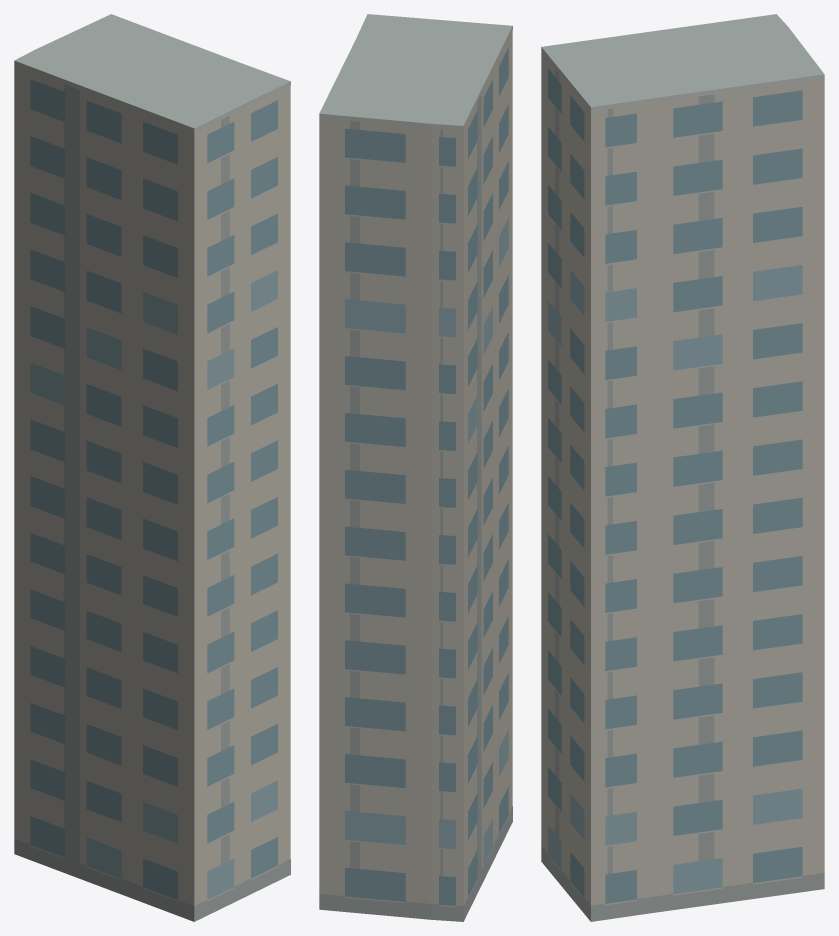
The model's file is residential-cb0c3aec-00f0-472c-9216-6f52a6d5ae77.glb.
3 views of the same model, side by side, from view 1: azimuth 30°, elevation 25°; view 2: azimuth 150°, elevation 25°; view 3: azimuth 270°, elevation 25° (orthographic). The views are drawn at different scales.
Parts seen in each view (by area): view 1: residential-cb0c3aec-00f0-472c-9216-6f52a6d5ae77.tmp; view 2: residential-cb0c3aec-00f0-472c-9216-6f52a6d5ae77.tmp; view 3: residential-cb0c3aec-00f0-472c-9216-6f52a6d5ae77.tmp.
Part boxes in pixels (bbox=[...]): residential-cb0c3aec-00f0-472c-9216-6f52a6d5ae77.tmp: bbox=[14, 14, 290, 921]; residential-cb0c3aec-00f0-472c-9216-6f52a6d5ae77.tmp: bbox=[319, 14, 512, 921]; residential-cb0c3aec-00f0-472c-9216-6f52a6d5ae77.tmp: bbox=[541, 14, 824, 921].
Bounding box in the file's own units: 10.49 × 42.7 × 13.47.
